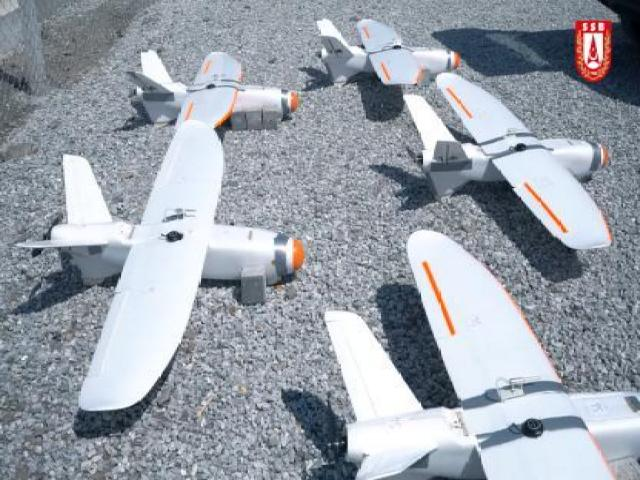uav: (28, 130, 302, 428), (395, 96, 633, 252), (123, 42, 300, 129), (312, 8, 468, 87)
